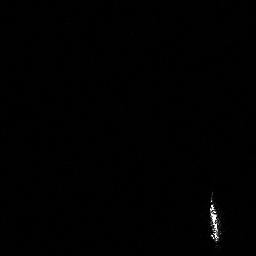ship: (204, 190, 228, 247)
